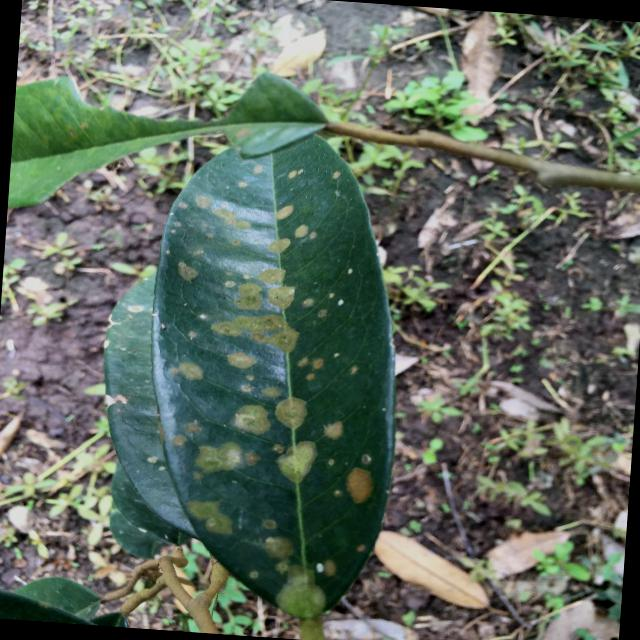Algal Leaf Spot: (126, 105, 431, 634)
